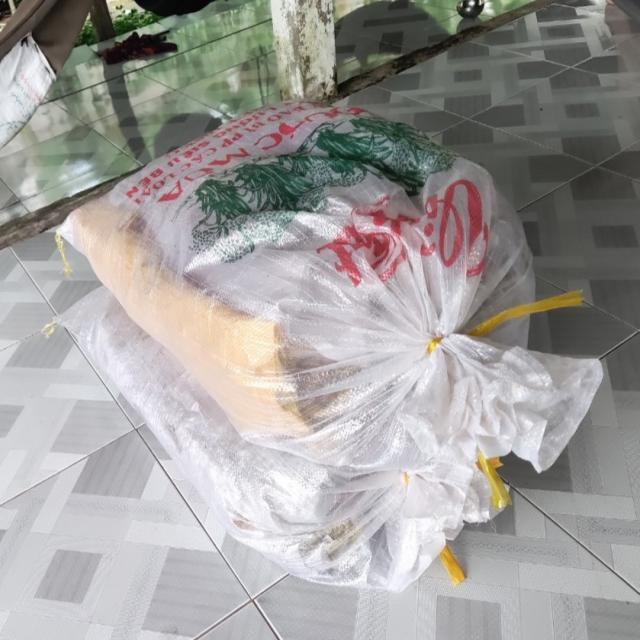gunny_bag: (61, 103, 584, 478), (59, 288, 495, 592), (532, 353, 603, 443)
